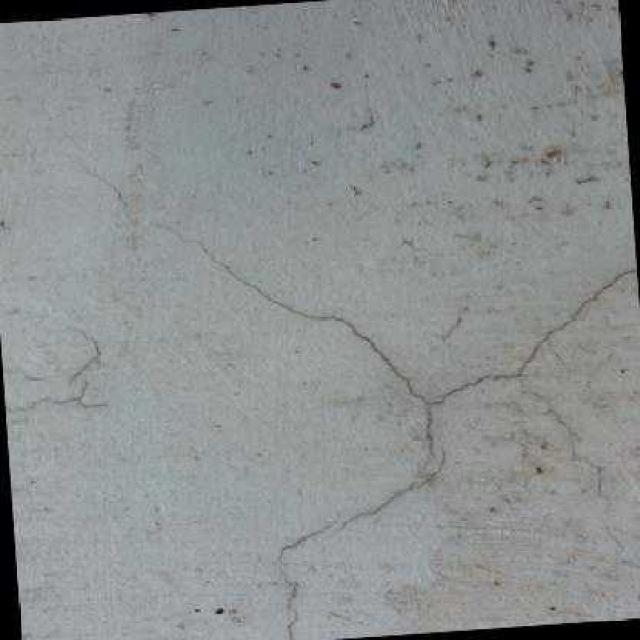D00: (189, 240, 637, 640)
